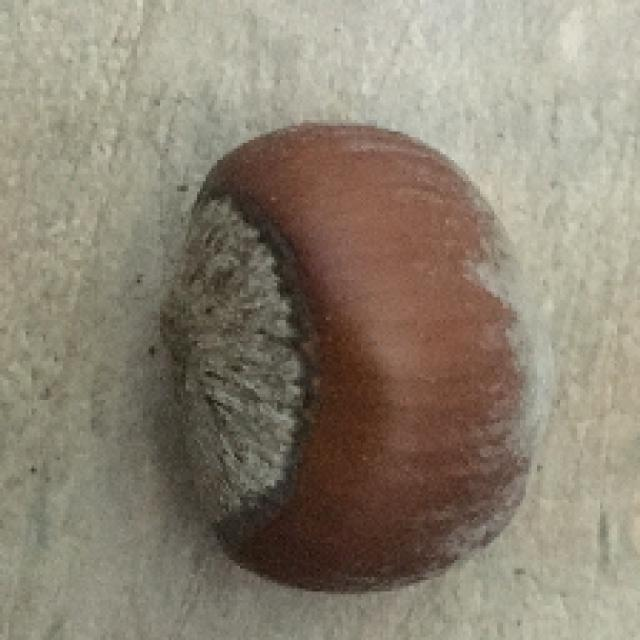QualityHazelnut: (162, 121, 557, 599)
